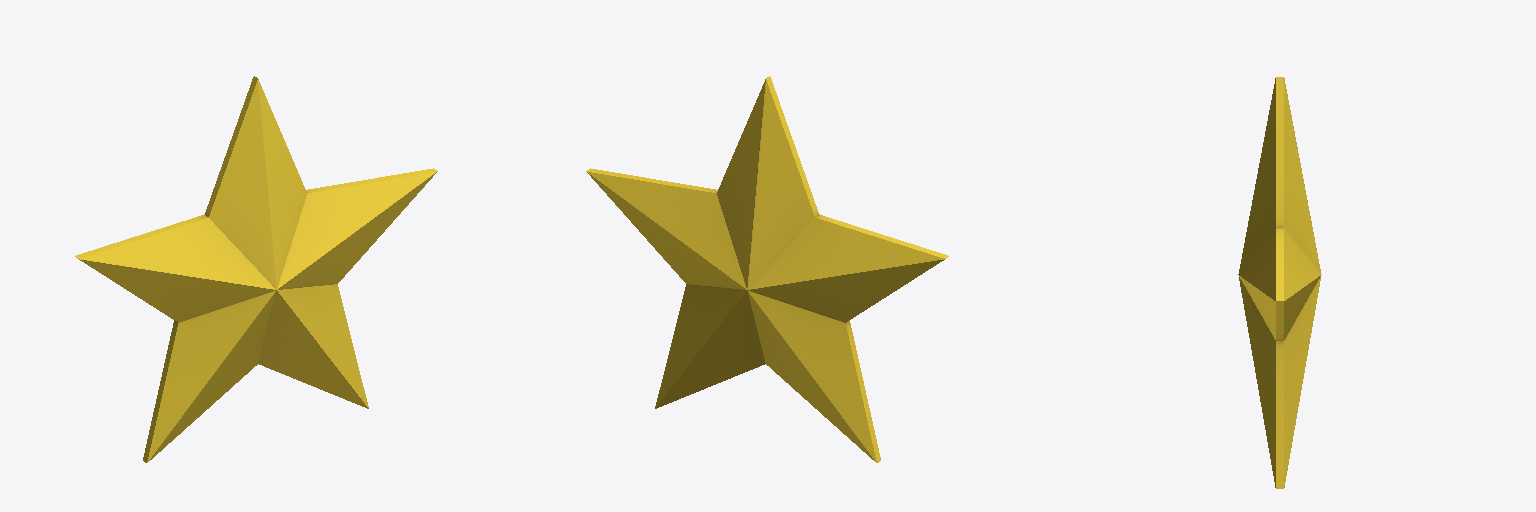
3 renders of one model, left to right at view 1: azimuth 30°, elevation 25°; view 2: azimuth 150°, elevation 25°; view 3: azimuth 270°, elevation 25°, orthographic.
Parts seen in each view (by area): view 1: obj1; view 2: obj1; view 3: obj1.
Part boxes in pixels (left/top/right/bottom): obj1: left=75, top=76, right=437, bottom=462; obj1: left=586, top=76, right=948, bottom=462; obj1: left=1238, top=77, right=1321, bottom=488.
Bounding box in the file's own units: 57.24 × 54.44 × 11.46.
Materials: 1 (1 with a texture image).